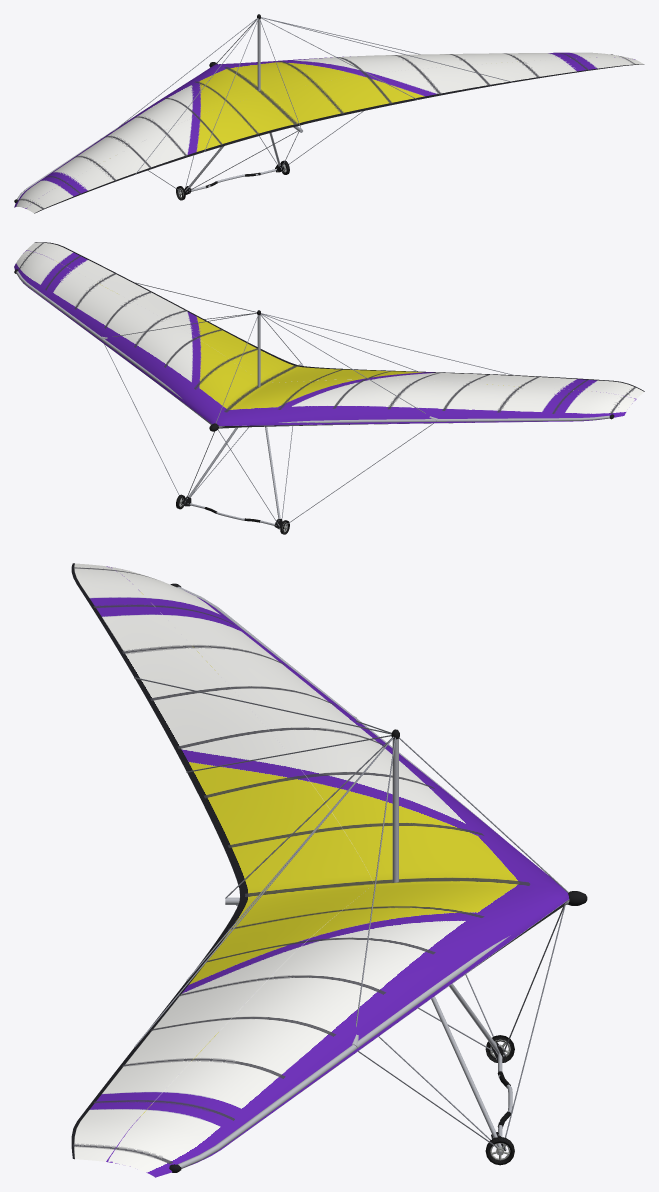
The model's file is glider_condor_crex3.glb.
3 views of the same model, one above another, from view 1: azimuth 30°, elevation 25°; view 2: azimuth 150°, elevation 25°; view 3: azimuth 270°, elevation 25° (orthographic). The views are drawn at different scales.
Parts seen in each view (by area): view 1: Sail, Frame, ControlFrame; view 2: Sail, Frame, ControlFrame; view 3: Sail, Frame, ControlFrame.
Part boxes in pixels (<box>): Sail: <box>14,52,644,213</box>; Frame: <box>14,14,612,203</box>; ControlFrame: <box>148,111,363,200</box>; Sail: <box>14,242,644,428</box>; Frame: <box>14,269,614,431</box>; ControlFrame: <box>104,344,433,534</box>; Sail: <box>71,563,569,1177</box>; Frame: <box>134,583,587,1172</box>; ControlFrame: <box>236,904,565,1165</box>.
Size of the model in its own units: 9.6 by 2.89 by 3.51.
Materials: 10 (2 with a texture image).
